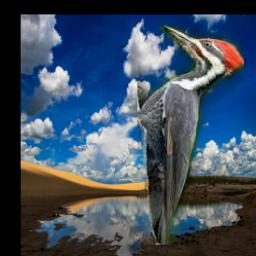Woodpecker: (137, 25, 244, 245)
